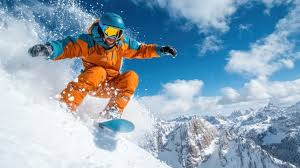snowboard: (91, 119, 135, 136)
